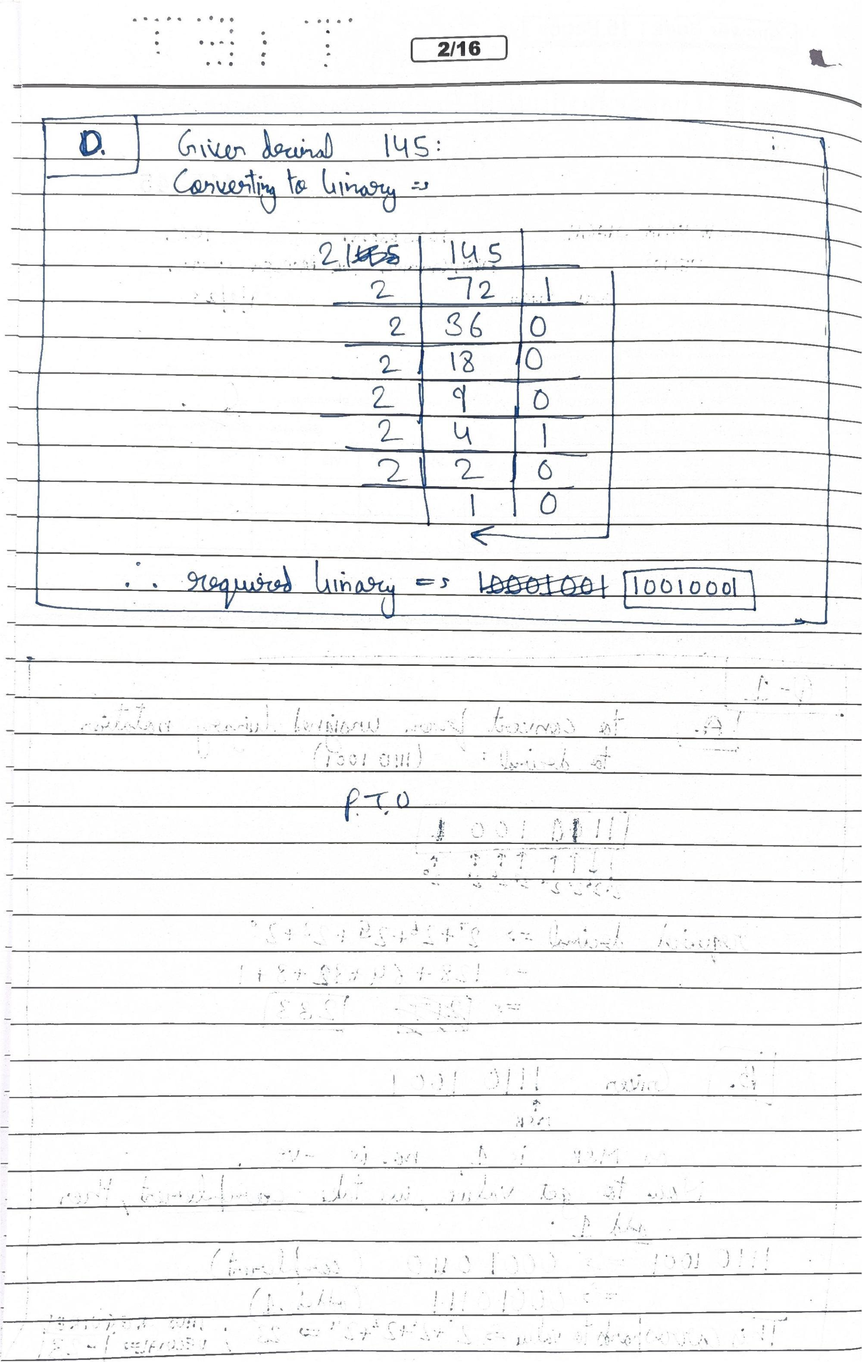cuttings: (477, 571, 606, 597), (344, 244, 403, 267)
